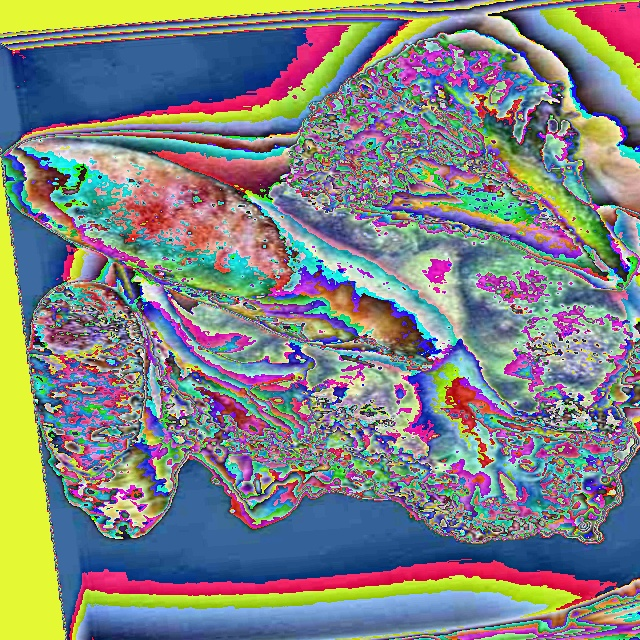background: (0, 31, 640, 543)
